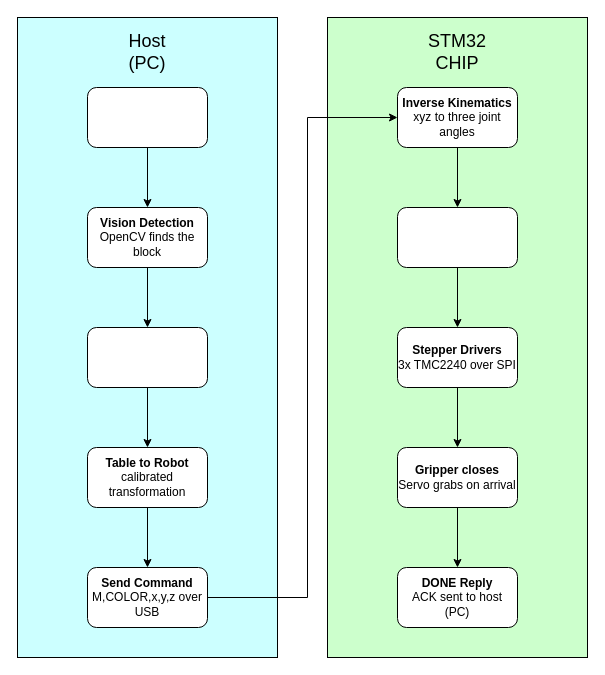
Some shapes in this 605 by 675 pixel diagram are drawn without their labels. Each missing label, with the centre of its shape:
"Motion Profile acceleration ramp" goes at point 457,237.
"Pixel to Table chessboard homography" goes at point 147,357.
"Voice Recognition Vosk picks a color word" goes at point 147,117.
